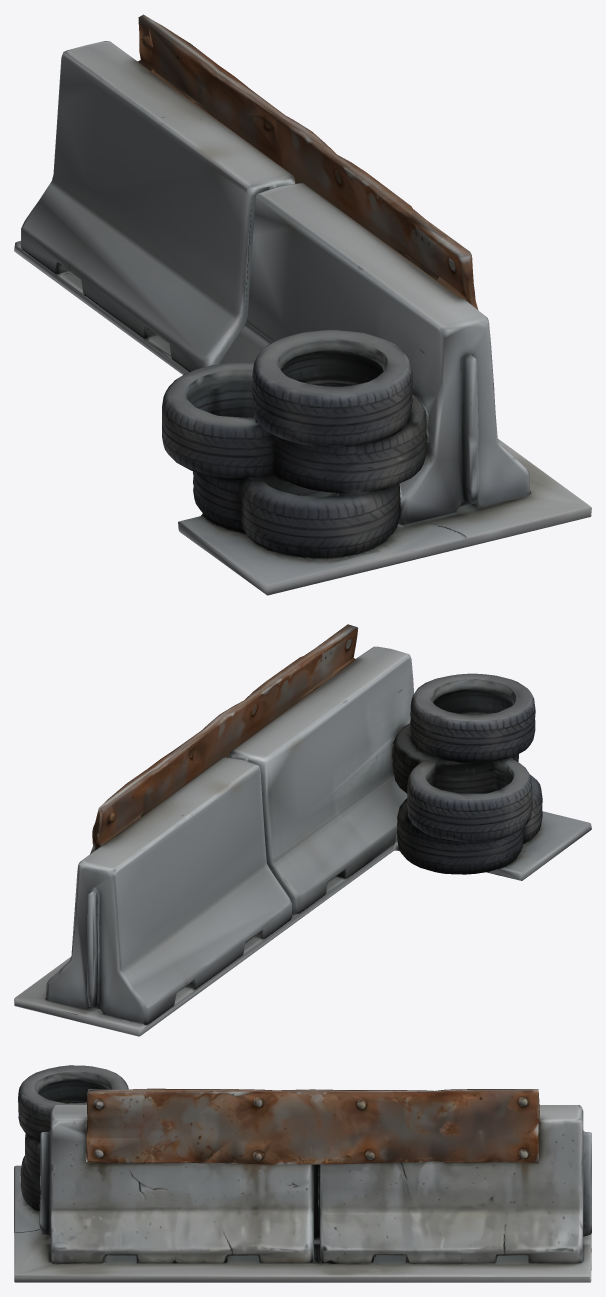
The picture shows the model from 3 angles, top to bottom: view 1: azimuth 30°, elevation 25°; view 2: azimuth 150°, elevation 25°; view 3: azimuth 270°, elevation 25°; orthographic projection. The views are drawn at different scales.
Parts seen in each view (by area): view 1: repaired; view 2: repaired; view 3: repaired.
Boxes of the visible parts, x1,y1,x2,y2 form: repaired: [14, 14, 591, 595]; repaired: [14, 624, 591, 1036]; repaired: [14, 1065, 591, 1282].
Bounding box in the file's own units: 0.4564 × 0.3242 × 0.9995.
1 material, 1 textured.
